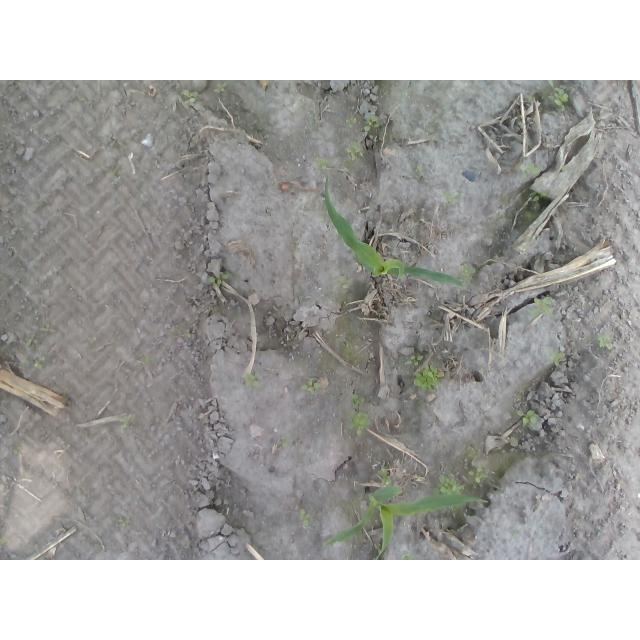Maize: (325, 179, 468, 292), (320, 482, 488, 560)
Weeds: (411, 367, 445, 392), (524, 297, 556, 320), (312, 156, 349, 173), (433, 478, 463, 498), (161, 326, 193, 342), (545, 91, 571, 110), (348, 413, 370, 433), (103, 162, 123, 182), (101, 134, 124, 151), (296, 511, 312, 534), (518, 410, 538, 427), (301, 380, 322, 396), (519, 161, 541, 176), (439, 191, 460, 206), (470, 468, 488, 485), (378, 466, 392, 487), (244, 373, 261, 390), (344, 144, 364, 158), (118, 415, 135, 431), (367, 116, 382, 132), (551, 352, 566, 368), (182, 89, 199, 103), (335, 276, 353, 289), (405, 356, 425, 367), (209, 275, 229, 285), (460, 265, 474, 279), (597, 334, 611, 348), (273, 437, 288, 449), (397, 548, 415, 558), (32, 355, 44, 369), (213, 81, 227, 93), (26, 334, 38, 346), (140, 355, 153, 366), (351, 395, 361, 409), (509, 436, 519, 449), (40, 324, 56, 332), (11, 445, 21, 456), (120, 518, 132, 527), (347, 118, 356, 127)
